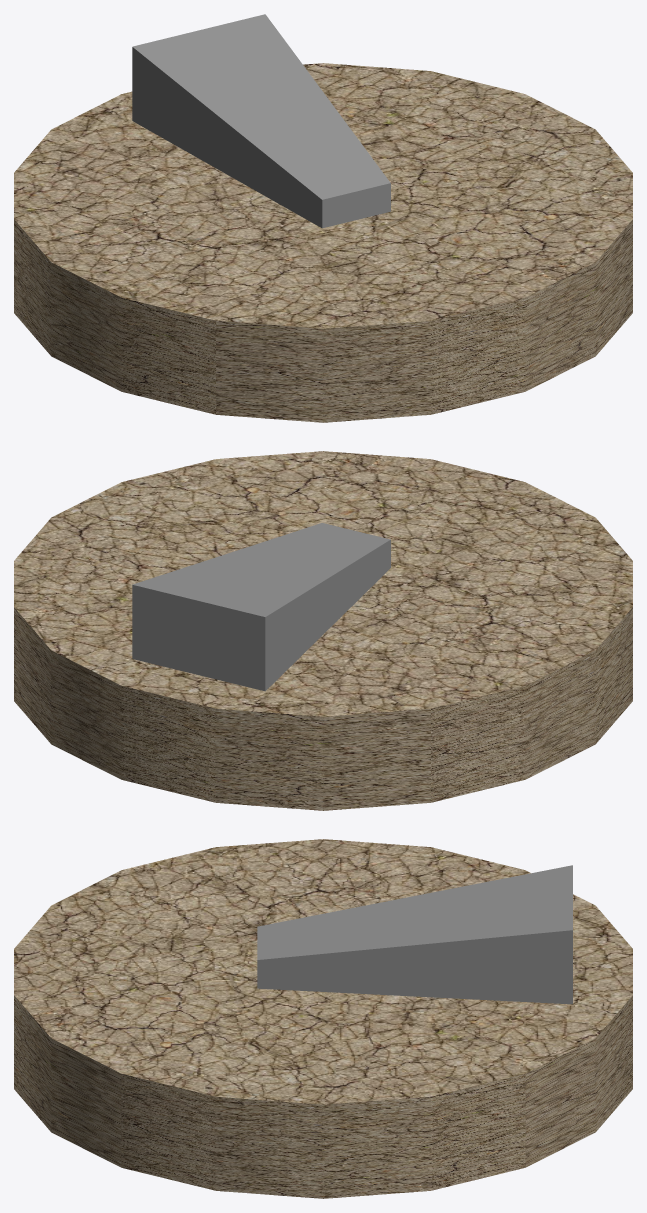
The model's file is rotator2.FBX.
The picture shows the model from 3 angles, top to bottom: view 1: azimuth 30°, elevation 25°; view 2: azimuth 150°, elevation 25°; view 3: azimuth 270°, elevation 25°; orthographic projection.
Visible parts, largest first — view 1: Cylinder001; view 2: Cylinder001; view 3: Cylinder001.
Part boxes in pixels (box(x1,y1,x2,y2)): Cylinder001: box(14, 14, 632, 422); Cylinder001: box(14, 451, 632, 810); Cylinder001: box(14, 839, 632, 1198).
Bounding box in the file's own units: 34.12 × 10.08 × 33.6.
